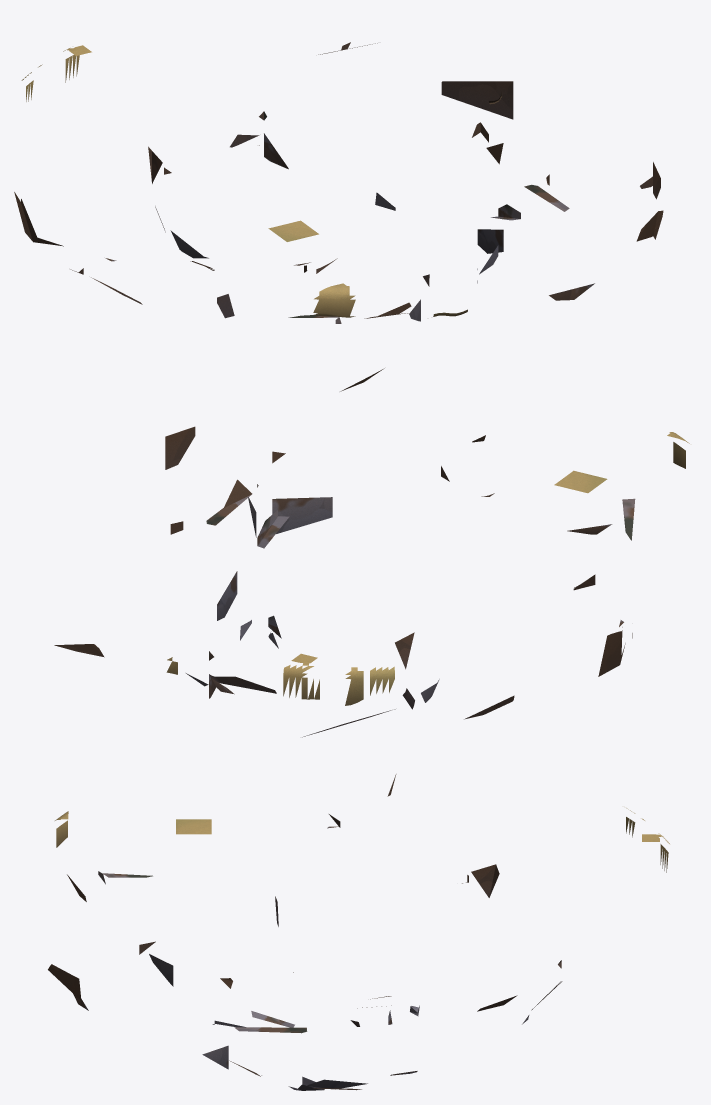
3 views of the same model, one above another, from view 1: azimuth 30°, elevation 25°; view 2: azimuth 150°, elevation 25°; view 3: azimuth 270°, elevation 25° (orthographic). The views are drawn at different scales.
Visible parts, largest first — view 1: Dirt_3_2_-1_000_010, Grass_-3_-5_0_010, Grass_-3_-3_0_110, Columns_1_-1_-2_111; view 2: Columns_1_-3_-1_110, Dirt_3_-2_-1_101, Dirt_-5_0_0_011, Grass_-3_-3_0_110, Grass_-2_4_0_000_010; view 3: Grass_-3_-3_0_110, Dirt_-3_1_-1_111.
Boxes of the visible parts, left/top/right/bottom form: Dirt_3_2_-1_000_010: left=441, top=81, right=513, bottom=119; Grass_-3_-5_0_010: left=313, top=283, right=355, bottom=317; Grass_-3_-3_0_110: left=268, top=220, right=318, bottom=241; Columns_1_-1_-2_111: left=477, top=229, right=503, bottom=253; Columns_1_-3_-1_110: left=272, top=497, right=332, bottom=533; Dirt_3_-2_-1_101: left=165, top=426, right=195, bottom=469; Dirt_-5_0_0_011: left=598, top=627, right=632, bottom=676; Grass_-3_-3_0_110: left=554, top=470, right=607, bottom=493; Grass_-2_4_0_000_010: left=283, top=665, right=308, bottom=698; Grass_-3_-3_0_110: left=176, top=819, right=211, bottom=834; Dirt_-3_1_-1_111: left=462, top=864, right=499, bottom=897.
Bounding box in the file's own units: 587 × 171 × 609.
Materials: 67 (67 with a texture image).
